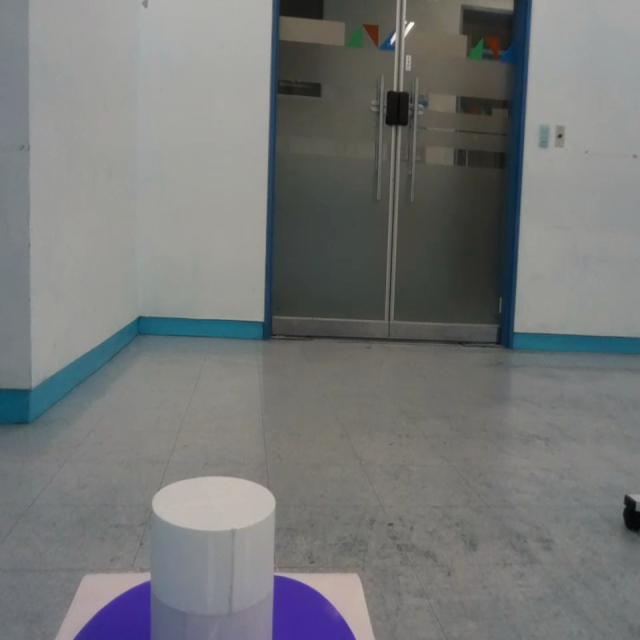cylinder: (146, 476, 276, 640)
